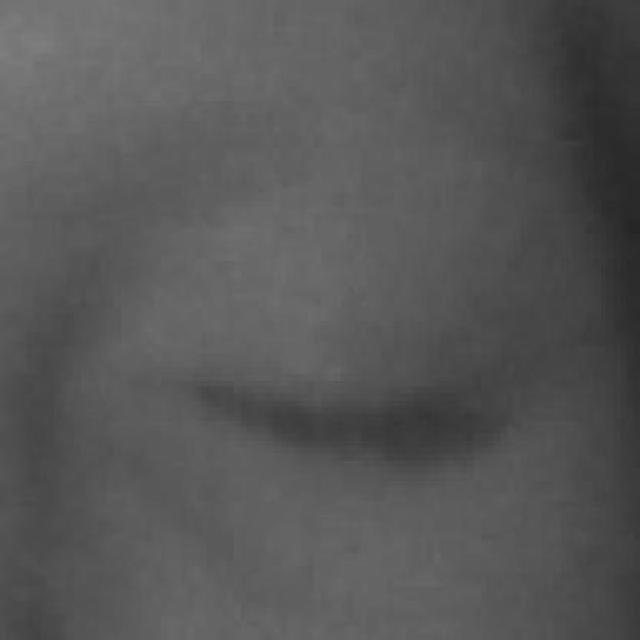drowsy: (186, 229, 482, 596)
